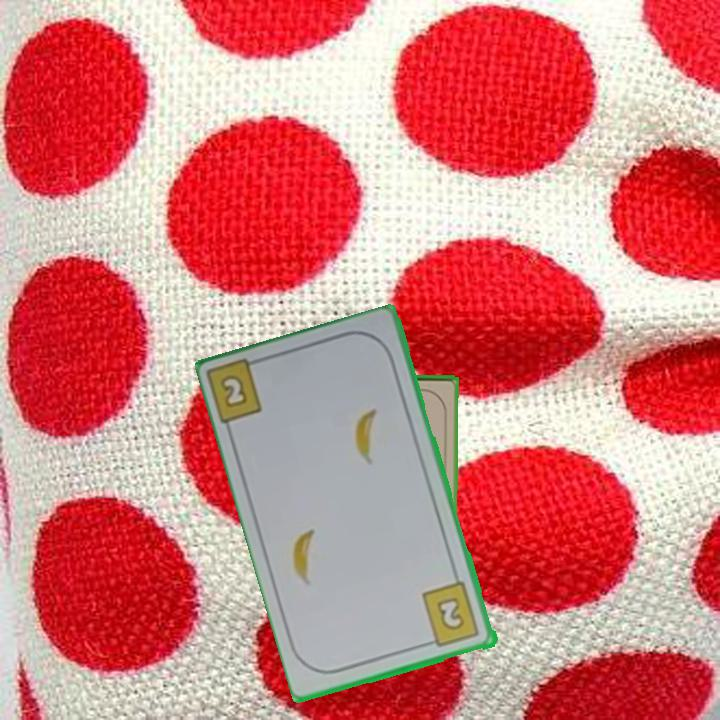2b: (419, 579, 483, 650), (217, 371, 251, 411)
